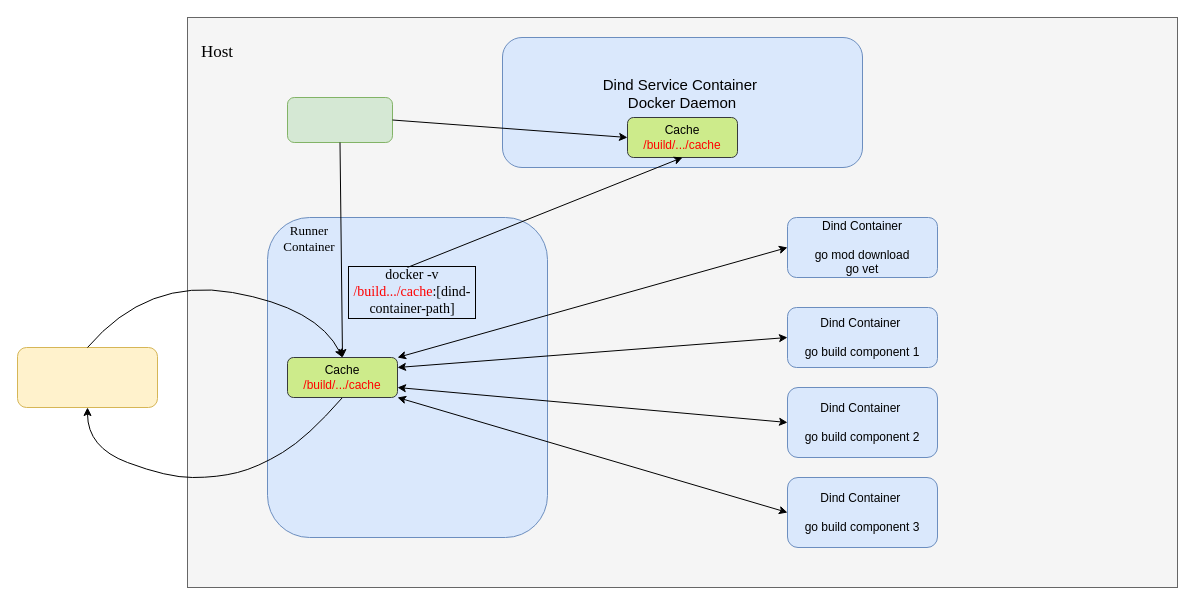
Image size: 1195x605. Some labels were removed from this diagram. The centre of each missing label's shape, as x and y in pixels:
Empty Dir: the point at 339,119
Gitlab Cache Server: the point at 87,377
